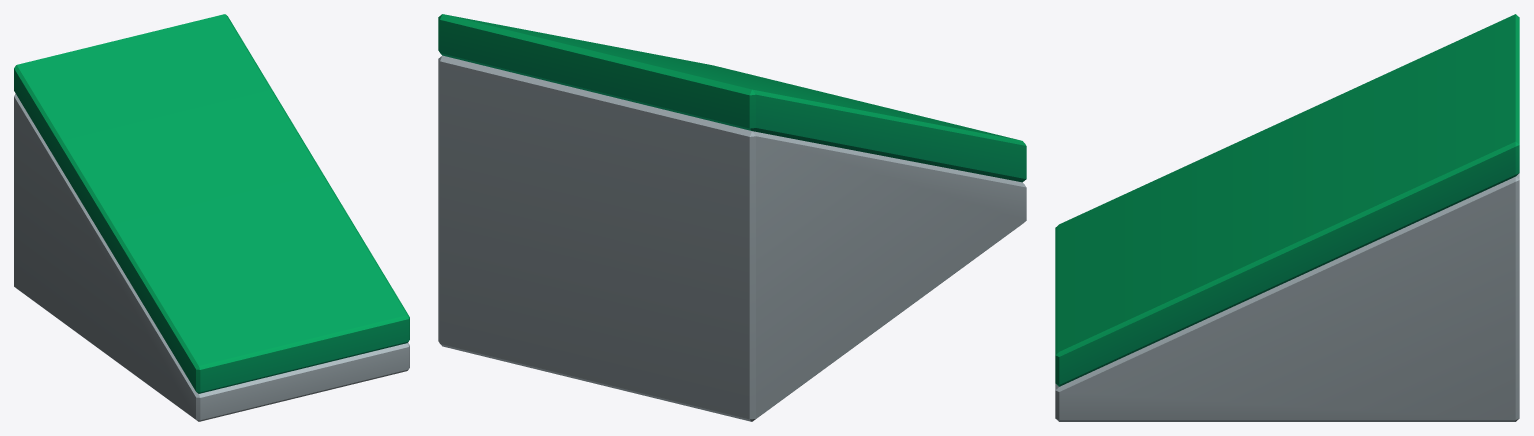
The model's file is platform_slope_4x6x4_green.glb.
3 renders of one model, left to right at view 1: azimuth 30°, elevation 25°; view 2: azimuth 150°, elevation 25°; view 3: azimuth 270°, elevation 25°, orthographic. The views are drawn at different scales.
Visible parts, largest first — view 1: platform_slope_4x6x4_green; view 2: platform_slope_4x6x4_green; view 3: platform_slope_4x6x4_green.
Boxes of the visible parts, box(x1,y1,x2,y2) form: platform_slope_4x6x4_green: box(14, 14, 409, 421); platform_slope_4x6x4_green: box(438, 14, 1026, 421); platform_slope_4x6x4_green: box(1055, 14, 1519, 421).
Bounding box in the file's own units: 4 × 4 × 6.
1 material, 1 textured.
